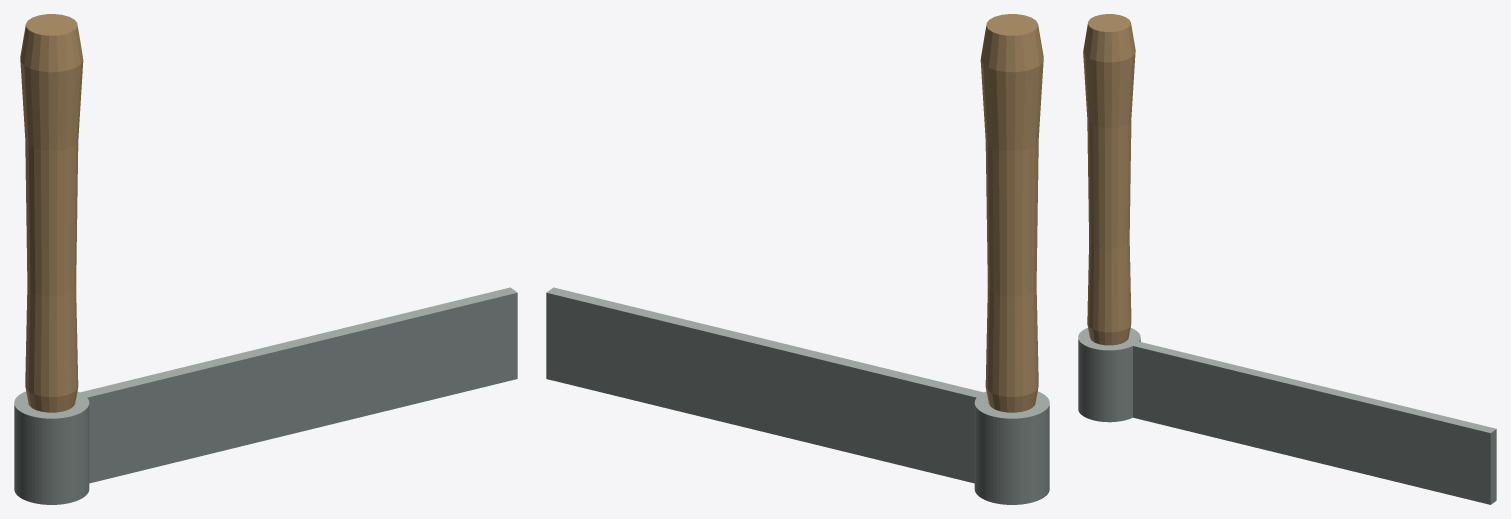
3 renders of one model, left to right at view 1: azimuth 30°, elevation 25°; view 2: azimuth 150°, elevation 25°; view 3: azimuth 330°, elevation 25°, orthographic. The views are drawn at different scales.
Parts seen in each view (by area): view 1: WholeConnectedEndEyeAndLongBluntPlate, WholeUprightShapedWoodHandle; view 2: WholeConnectedEndEyeAndLongBluntPlate, WholeUprightShapedWoodHandle; view 3: WholeConnectedEndEyeAndLongBluntPlate, WholeUprightShapedWoodHandle.
Part boxes in pixels (left/top/right/bottom): WholeConnectedEndEyeAndLongBluntPlate: left=14, top=287, right=517, bottom=504; WholeUprightShapedWoodHandle: left=20, top=14, right=83, bottom=412; WholeConnectedEndEyeAndLongBluntPlate: left=546, top=287, right=1049, bottom=504; WholeUprightShapedWoodHandle: left=980, top=14, right=1043, bottom=412; WholeConnectedEndEyeAndLongBluntPlate: left=1078, top=328, right=1496, bottom=504; WholeUprightShapedWoodHandle: left=1083, top=14, right=1135, bottom=345.
Size of the model in its own units: 0.396 by 0.355 by 0.052.
